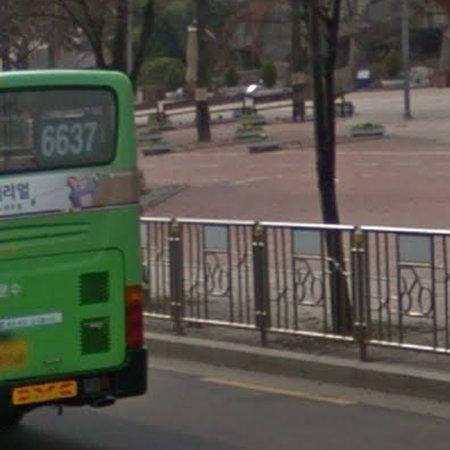buses: (0, 72, 147, 428)
